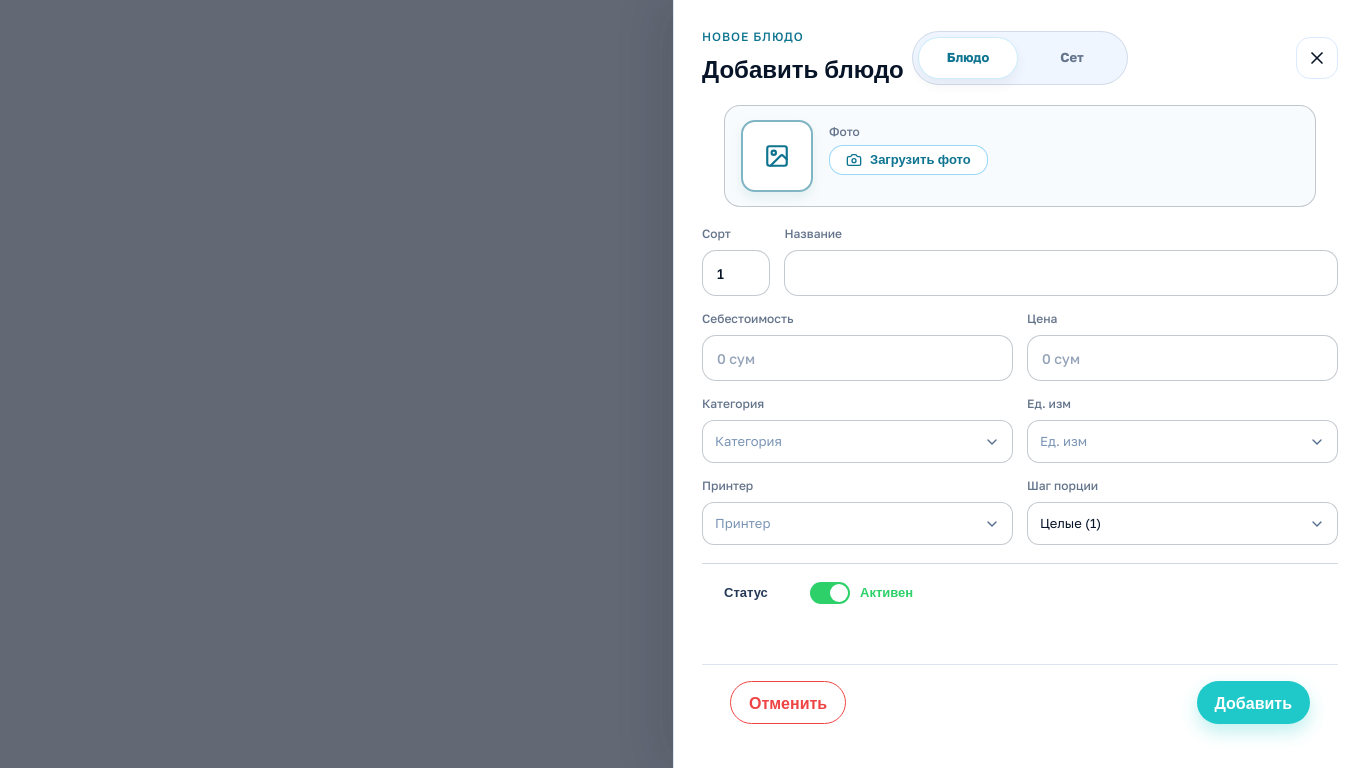
Test: Dishes drawer switches › shows only status and hides add-ons/auto/set controls in create/edit
Click the switch named "Статус" at (830, 593), box [810,582,850,604]
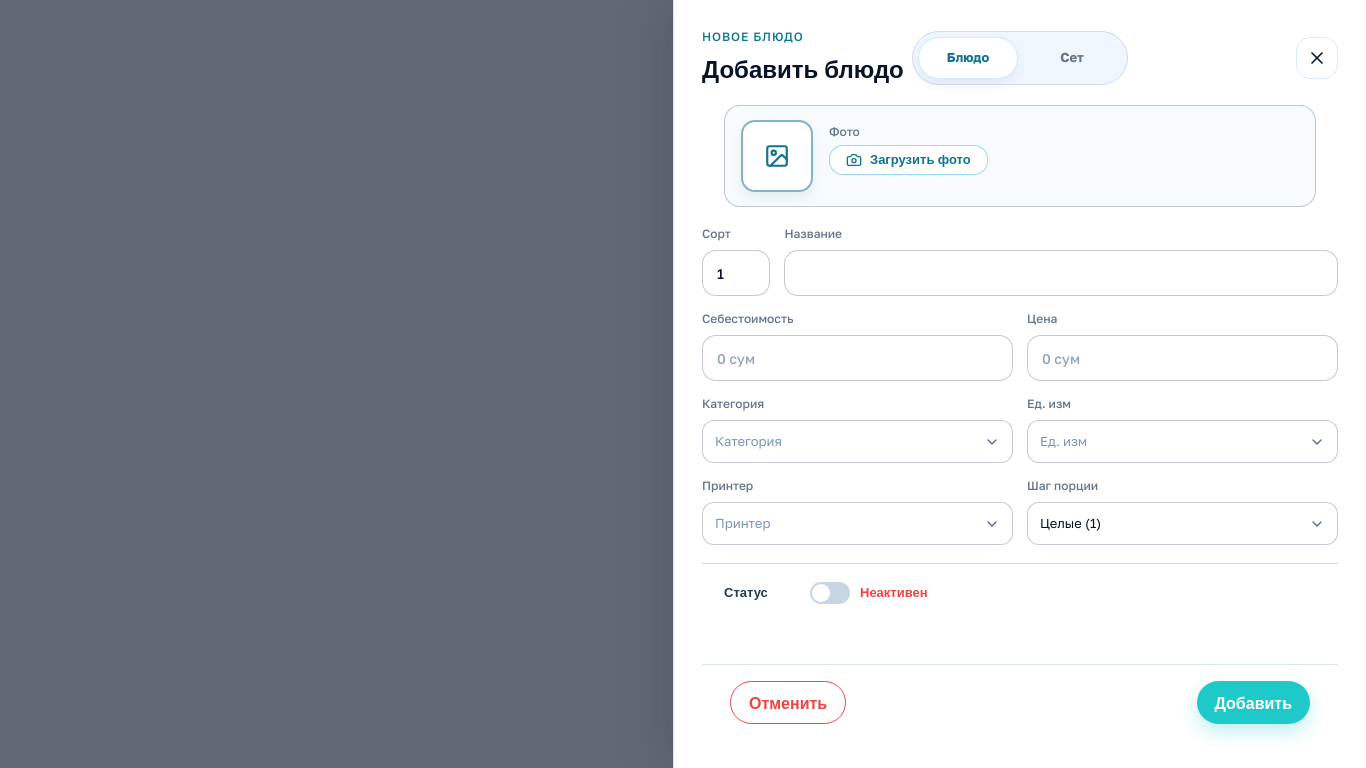
expect the button "Добавить" is shown: met, box [1196,681,1310,724]
expect the text "Неактивен" is shown: met, box [860,583,928,603]
